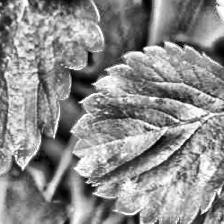Powdery Mildew Leaf: (68, 41, 224, 224), (0, 0, 105, 177)
